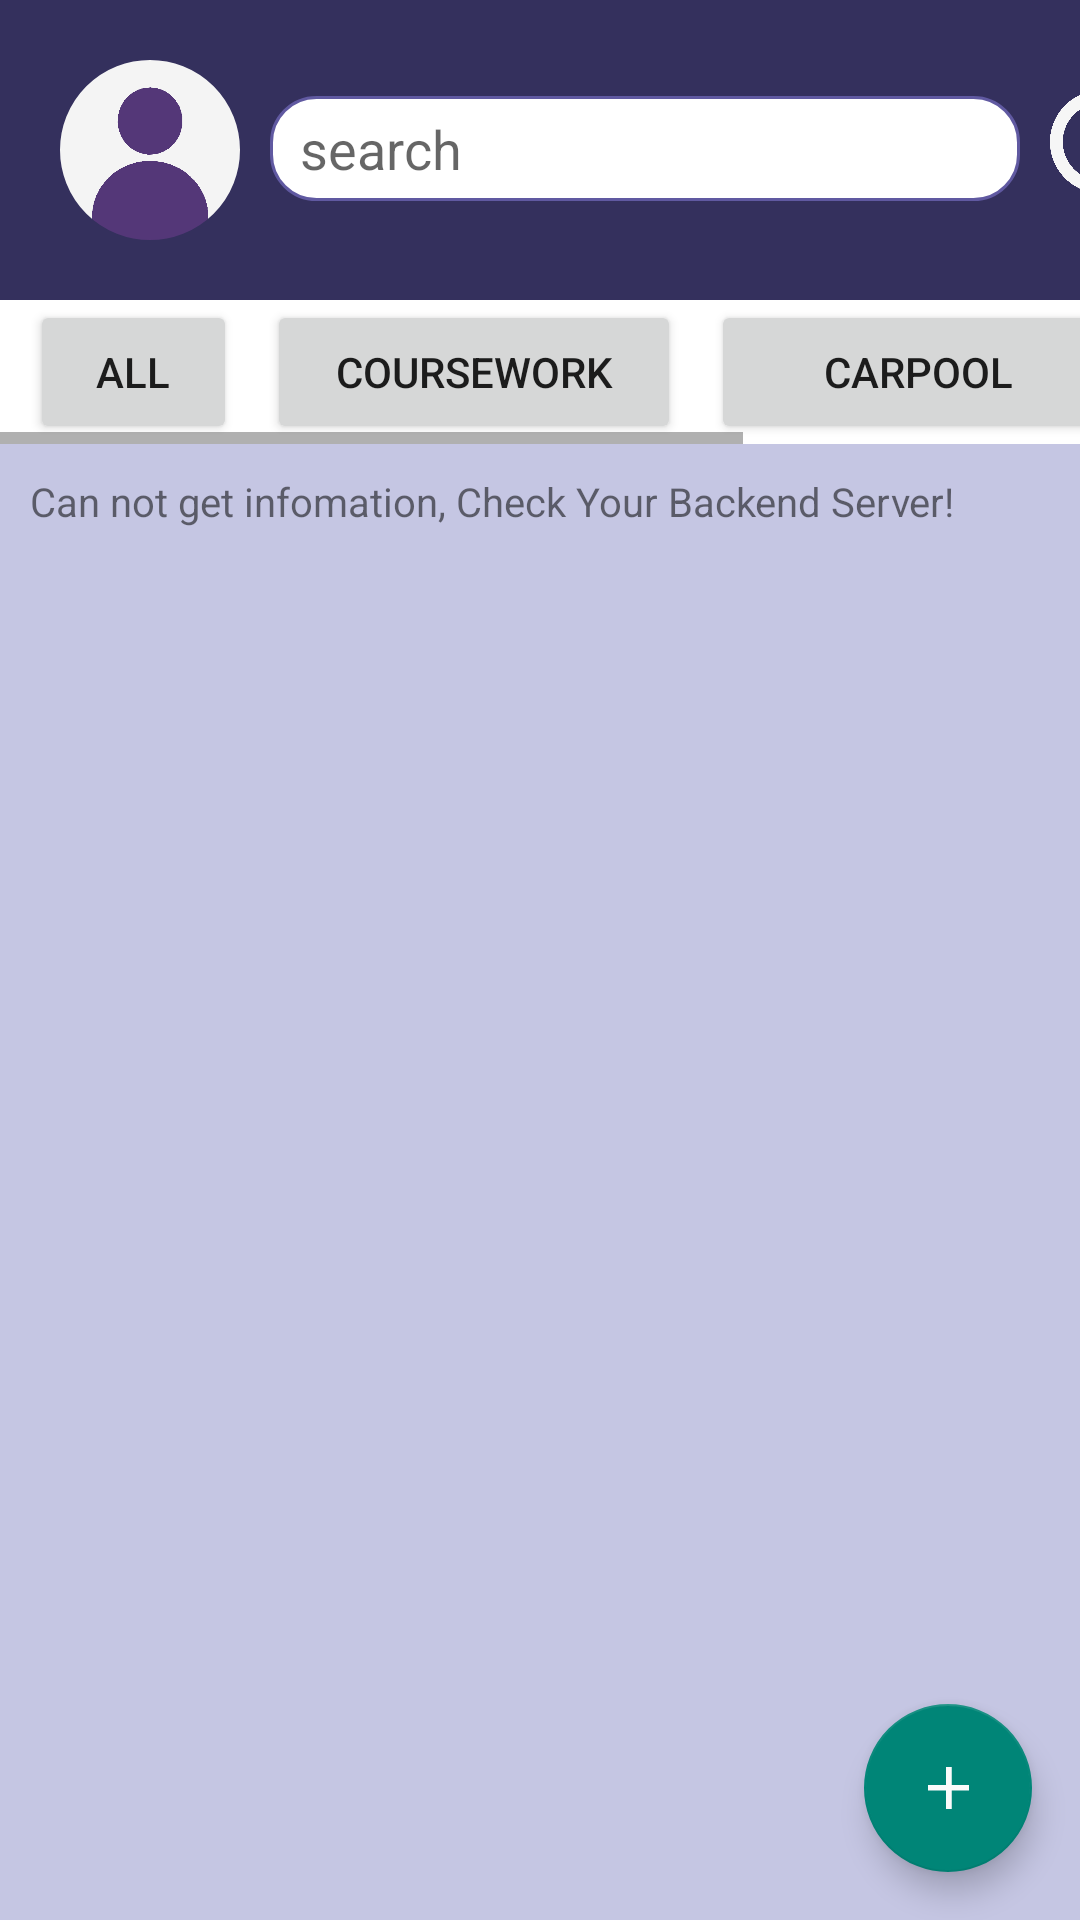

Screen size 1080px x 1920px. Icon name, then its box in pixels as (x1, y1, x2, y2):
add inner: (864, 1704, 1032, 1872)
circle images: (60, 60, 240, 240)
